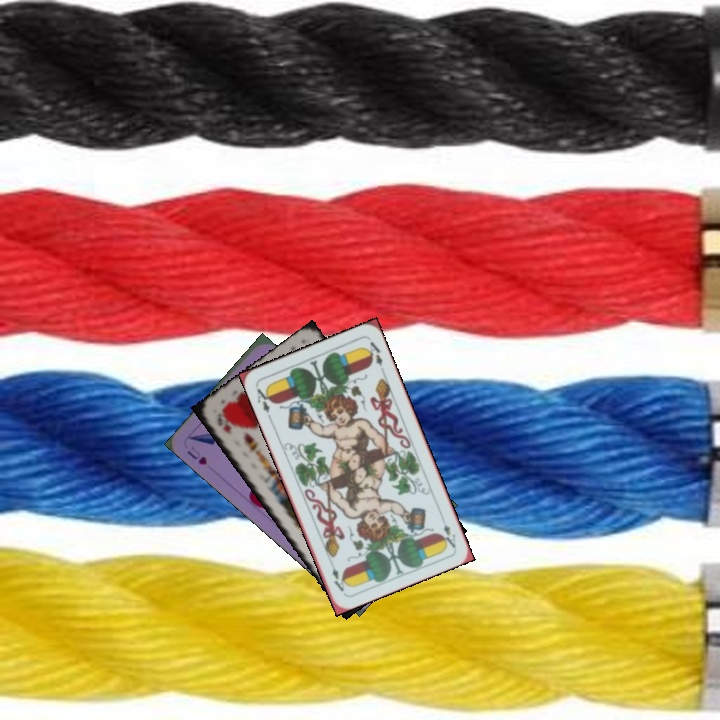EA: (252, 383, 275, 421), (438, 520, 459, 550)
HK: (213, 409, 234, 437)
HU: (183, 442, 210, 468)
